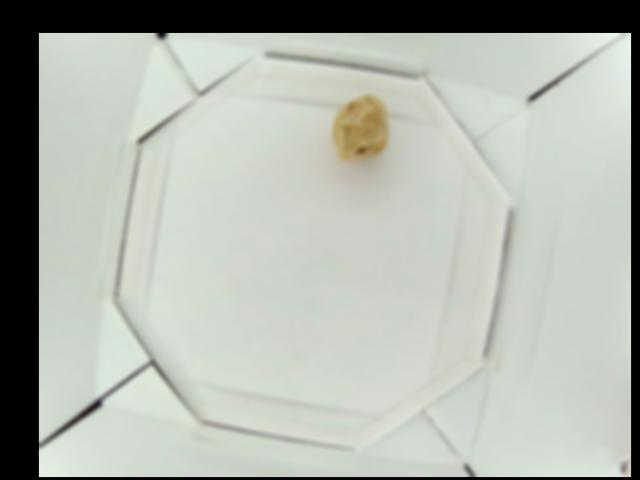Pebble: (333, 95, 388, 164)
